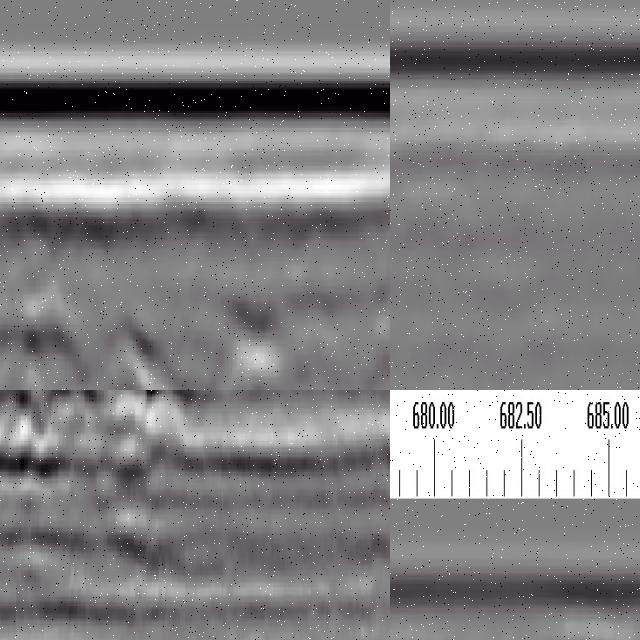loose: (1, 298, 305, 391), (1, 391, 203, 501)
